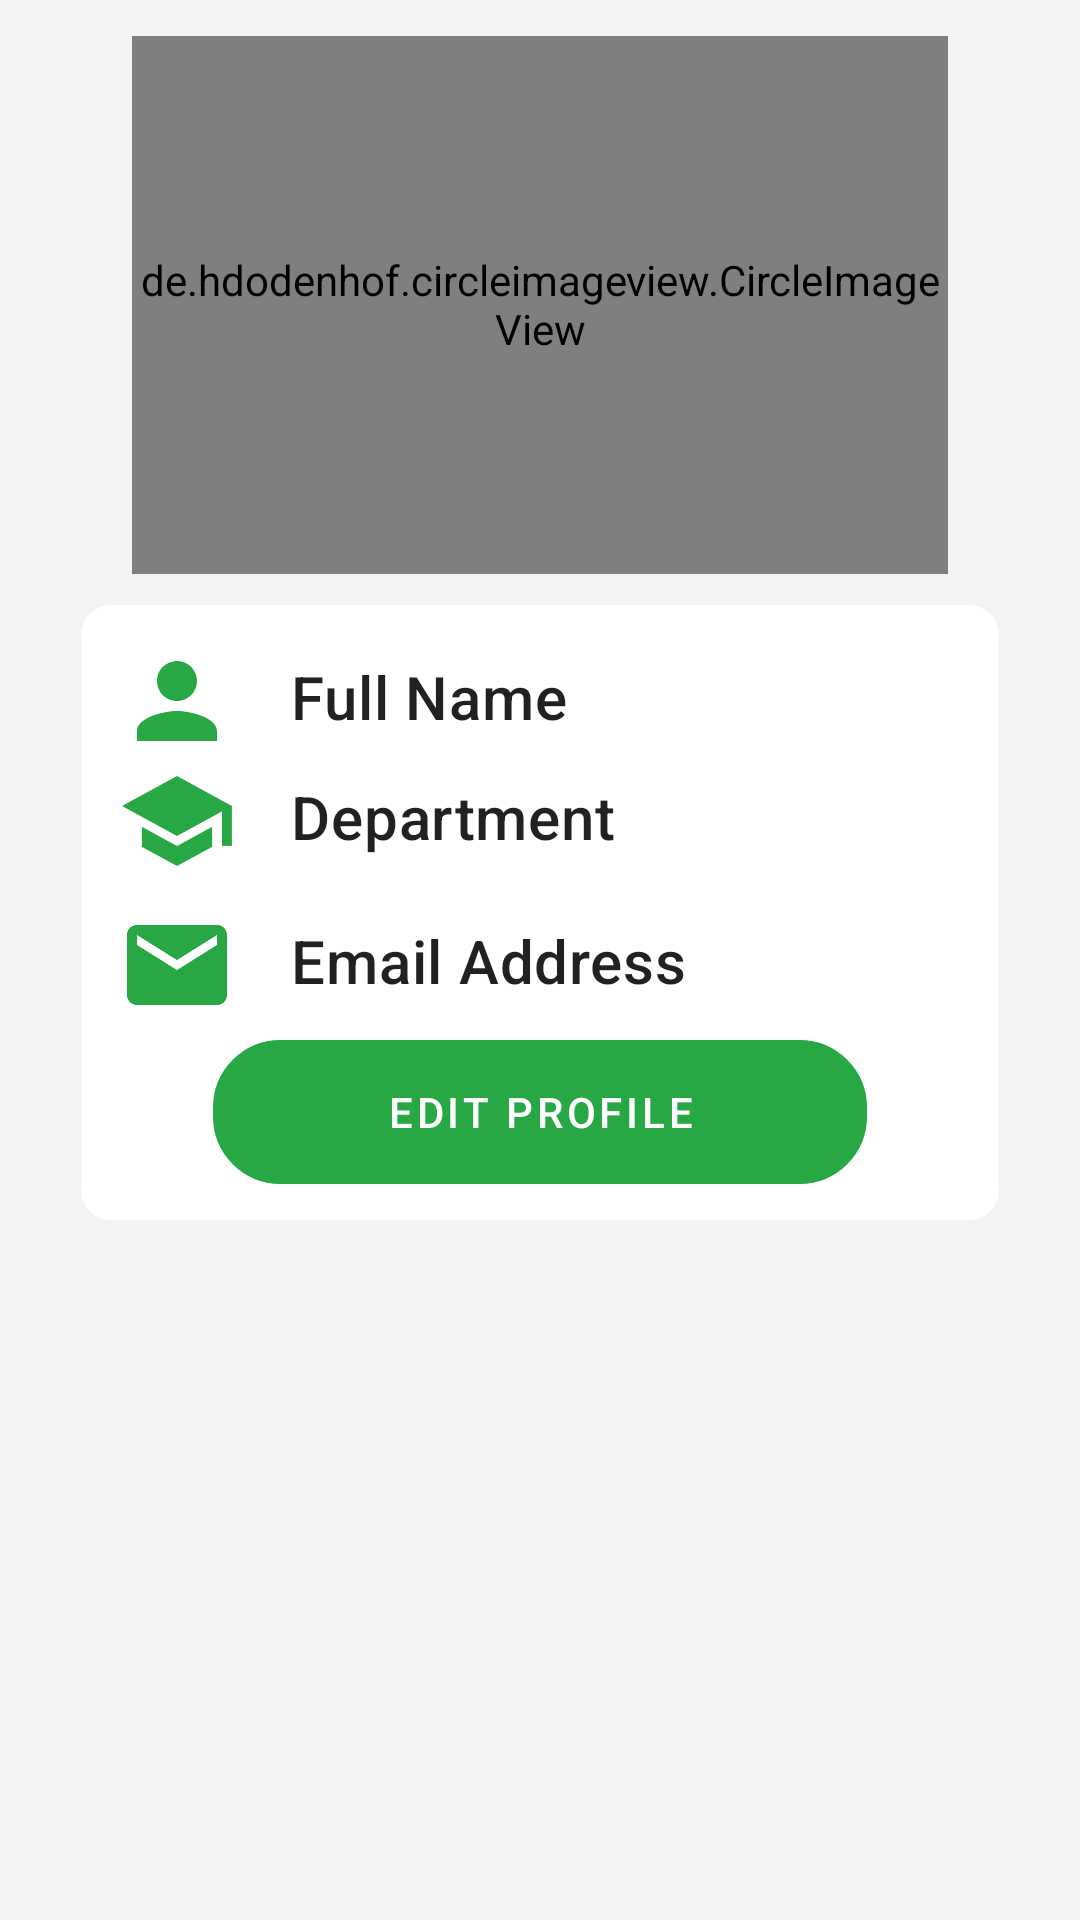

Point at icon controls on the screen. Image size 1080x1920, points as point (x, y).
person: point (177, 701)
school: point (177, 821)
